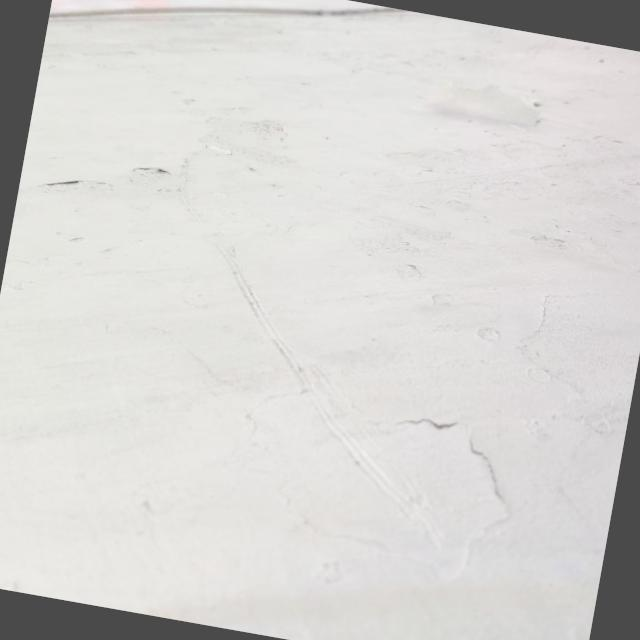paint-off: (393, 50, 560, 164)
scratch: (146, 223, 510, 566)
